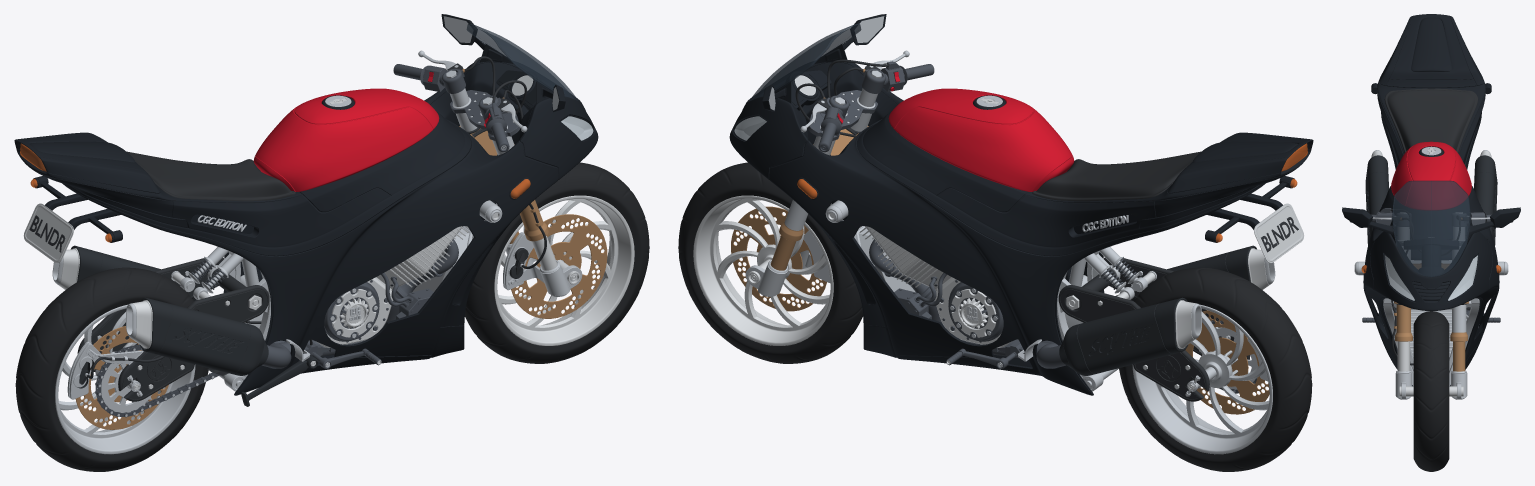
Rendered from fairing-prototype-001-refined.glb.
3 views of the same model, side by side, from view 1: azimuth 30°, elevation 25°; view 2: azimuth 150°, elevation 25°; view 3: azimuth 270°, elevation 25° (orthographic). The views are drawn at different scales.
Visible parts, largest first — view 1: Bodywork_MainShell, Tire_Rear, Fork_Assembly, Fuel_Tank, Tire_Front, Exhaust_Mufflers, Wheel_Front, Engine, Swingarm_Assembly, Fairing_Left_Lower, Drive_Assembly, Seat_Assembly (+5 smaller); view 2: Bodywork_MainShell, Tire_Rear, Fuel_Tank, Fork_Assembly, Wheel_Front, Tire_Front, Exhaust_Mufflers, Engine, Rear_Wheel, Swingarm_Assembly, Seat_Assembly, Drive_Assembly (+3 smaller); view 3: Bodywork_MainShell, Windscreen, Tire_Front, Seat_Assembly, Fuel_Tank, Fork_Assembly, Exhaust_Mufflers, Frame_Main, Wheel_Front, Fairing_Left_Lower, Engine.
Boxes of the visible parts, bbox=[...] form: Bodywork_MainShell: bbox=[14, 14, 598, 395]; Tire_Rear: bbox=[15, 267, 208, 471]; Fork_Assembly: bbox=[393, 50, 607, 318]; Fuel_Tank: bbox=[253, 88, 439, 191]; Tire_Front: bbox=[465, 162, 649, 363]; Exhaust_Mufflers: bbox=[52, 245, 268, 375]; Wheel_Front: bbox=[494, 195, 634, 345]; Engine: bbox=[262, 226, 468, 369]; Swingarm_Assembly: bbox=[77, 247, 269, 401]; Fairing_Left_Lower: bbox=[302, 269, 477, 372]; Drive_Assembly: bbox=[67, 321, 312, 429]; Seat_Assembly: bbox=[127, 151, 295, 201]; Bodywork_MainShell: bbox=[729, 14, 1313, 395]; Tire_Rear: bbox=[1119, 267, 1312, 471]; Fuel_Tank: bbox=[888, 88, 1074, 191]; Fork_Assembly: bbox=[731, 50, 934, 311]; Wheel_Front: bbox=[693, 195, 833, 345]; Tire_Front: bbox=[678, 162, 862, 363]; Exhaust_Mufflers: bbox=[1059, 245, 1275, 375]; Engine: bbox=[859, 226, 1065, 369]; Rear_Wheel: bbox=[1132, 304, 1272, 454]; Swingarm_Assembly: bbox=[1058, 247, 1250, 401]; Seat_Assembly: bbox=[1032, 151, 1200, 201]; Drive_Assembly: bbox=[1115, 283, 1269, 414]; Bodywork_MainShell: bbox=[1342, 14, 1520, 386]; Windscreen: bbox=[1392, 180, 1470, 277]; Tire_Front: bbox=[1413, 311, 1449, 471]; Seat_Assembly: bbox=[1384, 88, 1478, 152]; Fuel_Tank: bbox=[1391, 141, 1471, 210]; Fork_Assembly: bbox=[1349, 208, 1513, 384]; Exhaust_Mufflers: bbox=[1365, 150, 1497, 244]; Frame_Main: bbox=[1383, 298, 1479, 385]; Wheel_Front: bbox=[1395, 370, 1467, 399]; Fairing_Left_Lower: bbox=[1371, 310, 1397, 369]; Engine: bbox=[1362, 260, 1500, 327].
Bounding box in the file's own units: 7.04 × 3.69 × 2.31.
